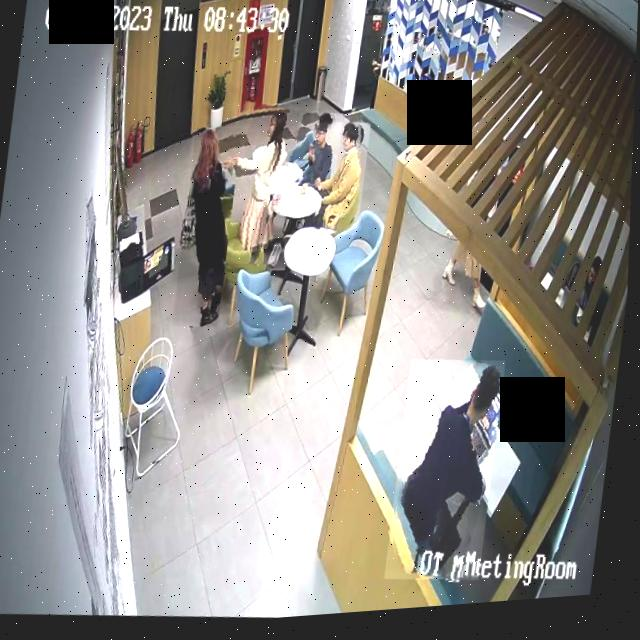person: (388, 360, 509, 593), (207, 101, 300, 272), (174, 128, 243, 332), (304, 124, 372, 243), (292, 115, 344, 194)
